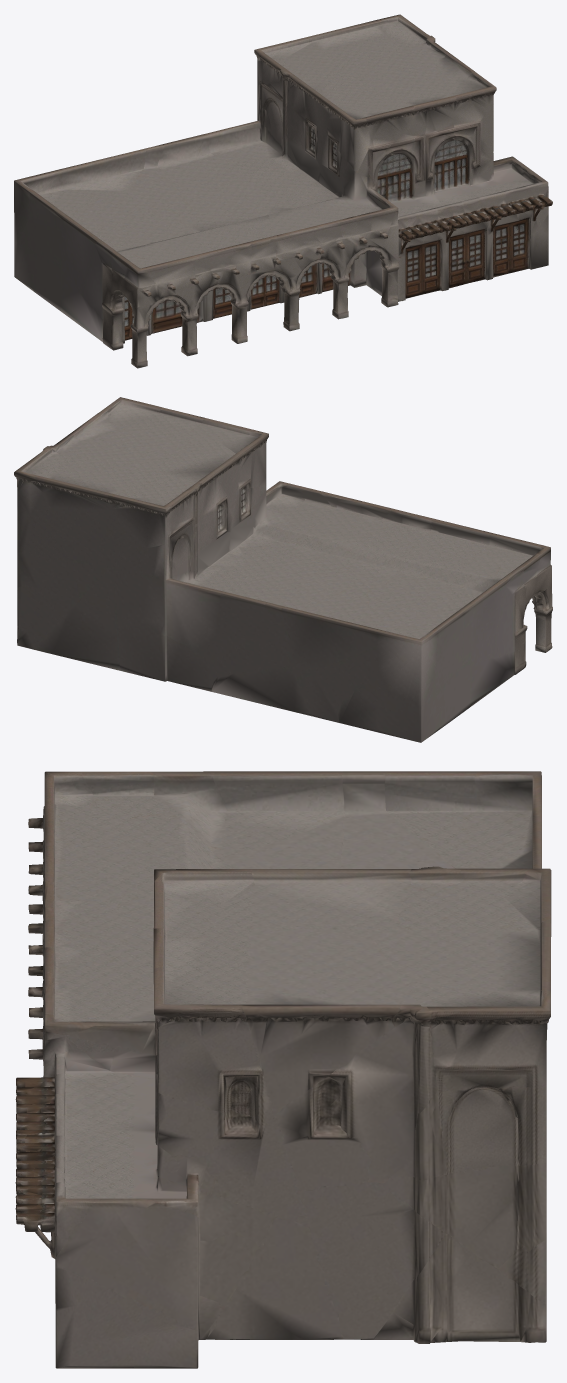
The model's file is arcade_lod1.glb.
The picture shows the model from 3 angles, top to bottom: view 1: azimuth 30°, elevation 25°; view 2: azimuth 150°, elevation 25°; view 3: azimuth 270°, elevation 25°; orthographic projection. The views are drawn at different scales.
Parts seen in each view (by area): view 1: mesh_node; view 2: mesh_node; view 3: mesh_node.
Part boxes in pixels (x1,y1,x2,y2): mesh_node: [14, 14, 552, 368]; mesh_node: [14, 397, 552, 742]; mesh_node: [15, 771, 551, 1368].
Size of the model in its own units: 1.9 by 0.7327 by 1.06.
1 material, 1 textured.
